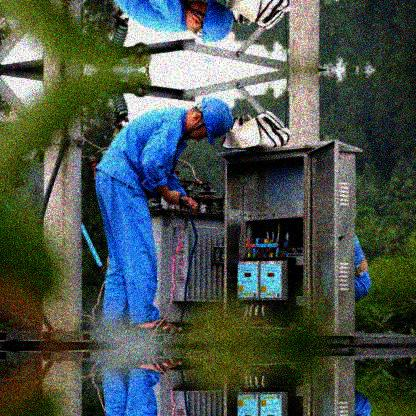helmet: (184, 95, 232, 147), (182, 1, 233, 45)
